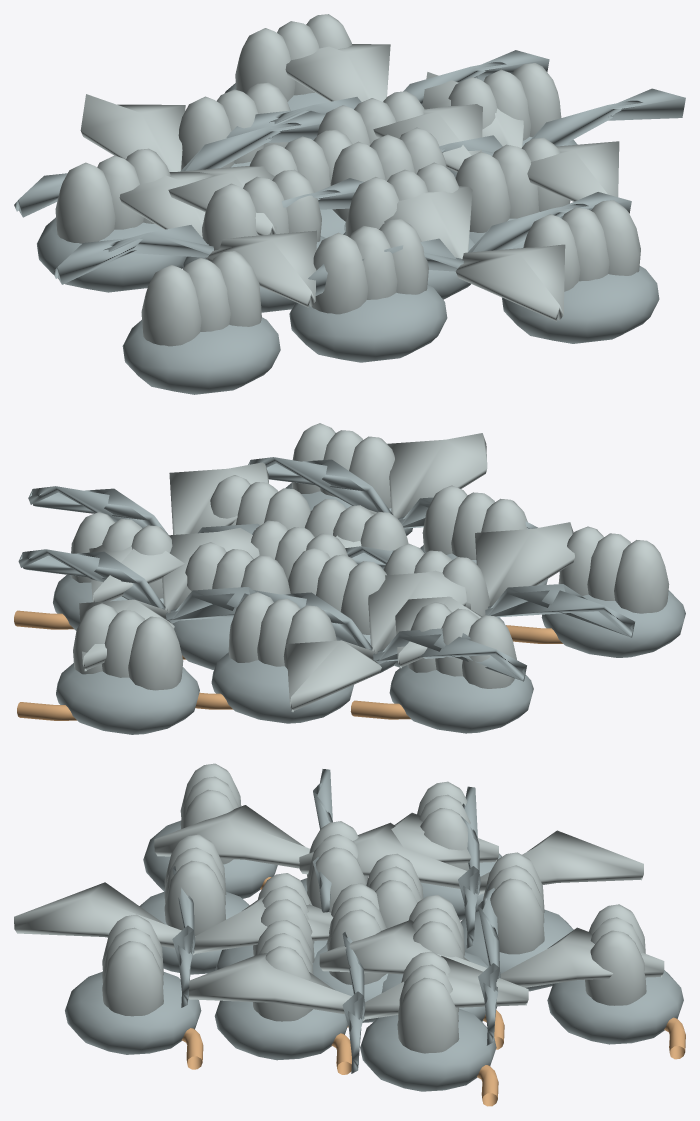
The model's file is bio_acid_mat_20_far.glb.
3 views of the same model, one above another, from view 1: azimuth 30°, elevation 25°; view 2: azimuth 150°, elevation 25°; view 3: azimuth 270°, elevation 25° (orthographic). The views are drawn at different scales.
Visible parts, largest first — view 1: Low buttress leaf.009, Reaction vesicle.036, Microbial cushion.012, Microbial cushion.007, Low buttress leaf.013, Reaction vesicle.021, Low buttress leaf.017, Low buttress leaf.005, Microbial cushion.010, Reaction vesicle.027, Reaction vesicle.030, Reaction vesicle.015 (+17 smaller); view 2: Low buttress leaf.005, Low buttress leaf.017, Reaction vesicle.036, Microbial cushion.011, Reaction vesicle.033, Microbial cushion.009, Low buttress leaf.001, Low buttress leaf.009, Reaction vesicle.018, Low buttress leaf.012, Microbial cushion.006, Reaction vesicle.021 (+22 smaller); view 3: Low buttress leaf.001, Low buttress leaf.009, Low buttress leaf.013, Low buttress leaf.005, Low buttress leaf.017, Microbial cushion.008, Microbial cushion.010, Microbial cushion.011, Reaction vesicle.030, Microbial cushion.005, Reaction vesicle.024, Reaction vesicle.033 (+26 smaller).
Part boxes in pixels (x1,y1,x2,y2): Low buttress leaf.009: [384, 179, 565, 321]; Reaction vesicle.036: [141, 251, 261, 346]; Microbial cushion.012: [122, 317, 280, 394]; Microbial cushion.007: [289, 285, 447, 362]; Low buttress leaf.013: [285, 44, 482, 172]; Reaction vesicle.021: [312, 219, 428, 314]; Low buttress leaf.017: [119, 172, 316, 307]; Low buttress leaf.005: [80, 94, 276, 235]; Microbial cushion.010: [502, 266, 659, 343]; Reaction vesicle.027: [55, 148, 170, 243]; Reaction vesicle.030: [523, 200, 640, 291]; Reaction vesicle.015: [455, 137, 570, 232]; Low buttress leaf.005: [286, 570, 466, 711]; Low buttress leaf.017: [395, 522, 574, 668]; Reaction vesicle.036: [558, 526, 669, 613]; Microbial cushion.011: [56, 663, 199, 734]; Reaction vesicle.033: [73, 603, 183, 690]; Microbial cushion.009: [389, 665, 533, 733]; Low buttress leaf.001: [89, 462, 268, 602]; Low buttress leaf.009: [307, 433, 487, 547]; Reaction vesicle.018: [228, 592, 336, 668]; Low buttress leaf.012: [18, 549, 255, 623]; Microbial cushion.006: [211, 652, 353, 723]; Reaction vesicle.021: [422, 485, 527, 559]; Low buttress leaf.001: [188, 953, 528, 1020]; Low buttress leaf.009: [14, 882, 333, 954]; Low buttress leaf.013: [319, 920, 664, 987]; Low buttress leaf.005: [299, 822, 643, 895]; Low buttress leaf.017: [154, 805, 498, 868]; Microbial cushion.008: [360, 1008, 496, 1091]; Microbial cushion.010: [65, 971, 201, 1054]; Microbial cushion.011: [547, 970, 683, 1044]; Reaction vesicle.030: [102, 914, 163, 1016]; Microbial cushion.005: [214, 979, 347, 1060]; Reaction vesicle.024: [397, 951, 459, 1053]; Reaction vesicle.033: [585, 904, 646, 1005].
Bounding box in the file's own units: 2.22 × 0.3999 × 2.16.
